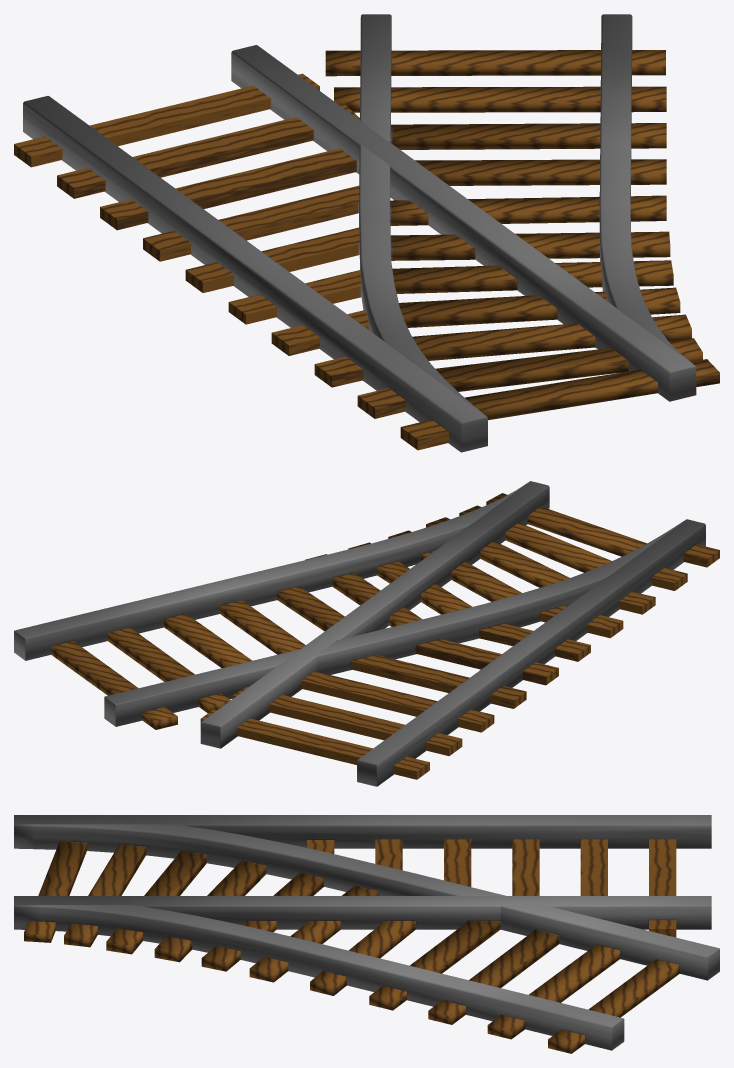
Rendered from BifurcationRightRail.fbx.
3 renders of one model, top to bottom at view 1: azimuth 30°, elevation 25°; view 2: azimuth 150°, elevation 25°; view 3: azimuth 270°, elevation 25°, orthographic. The views are drawn at different scales.
Parts seen in each view (by area): view 1: BifurcationRightRail; view 2: BifurcationRightRail; view 3: BifurcationRightRail.
Part boxes in pixels (x1,y1,x2,y2): BifurcationRightRail: [14, 14, 719, 452]; BifurcationRightRail: [14, 481, 719, 786]; BifurcationRightRail: [14, 815, 719, 1053].
Bounding box in the file's own units: 394 × 19.3 × 516.
